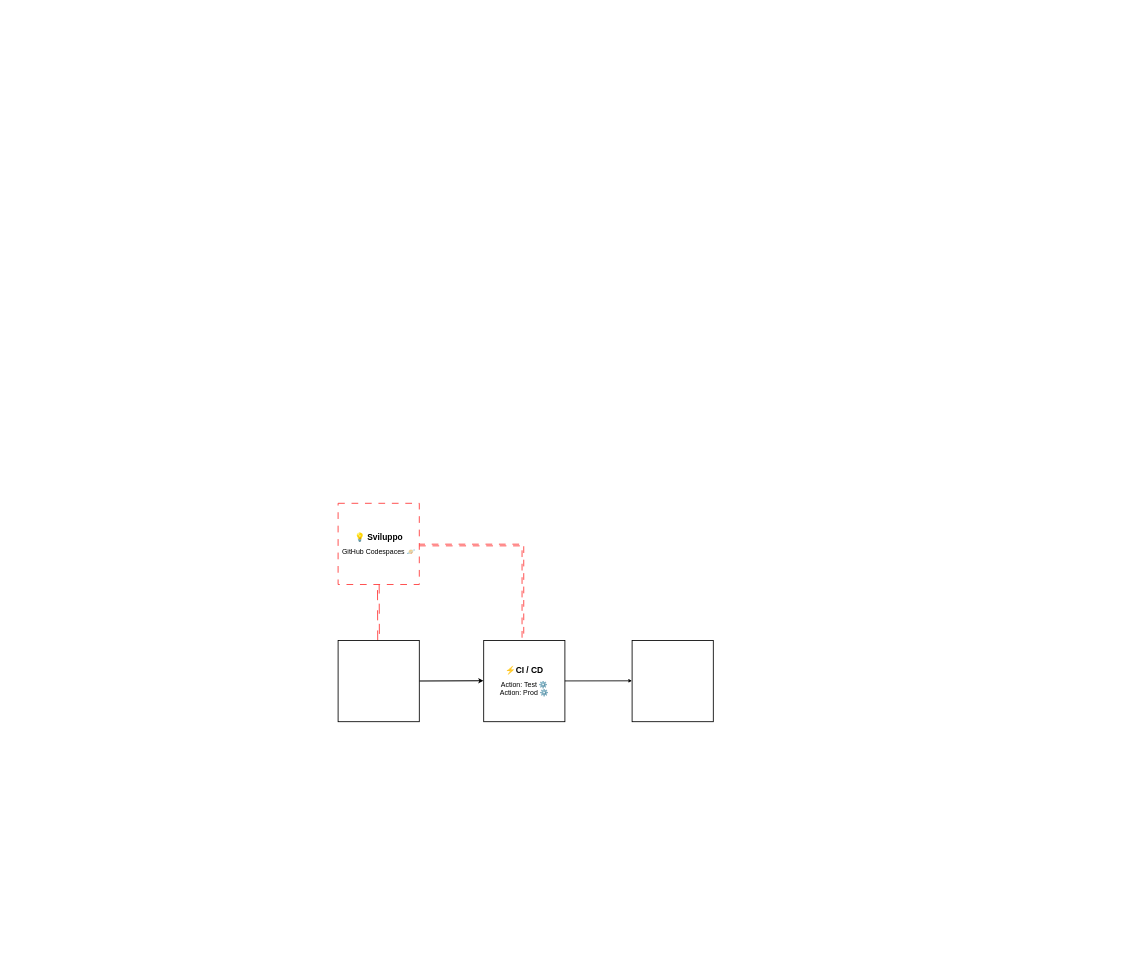
Some shapes in this 1144 by 973 pixel diagram are drawn without their labels. Each missing label, with the centre of its shape:
"☁️ CLOUD (GCP) Piattaforma Test 🚧 Piattaforma Prod 🌇" belongs at pixel 673 681.
"💡 Sviluppo PC Locale 💻" belongs at pixel 379 681.
